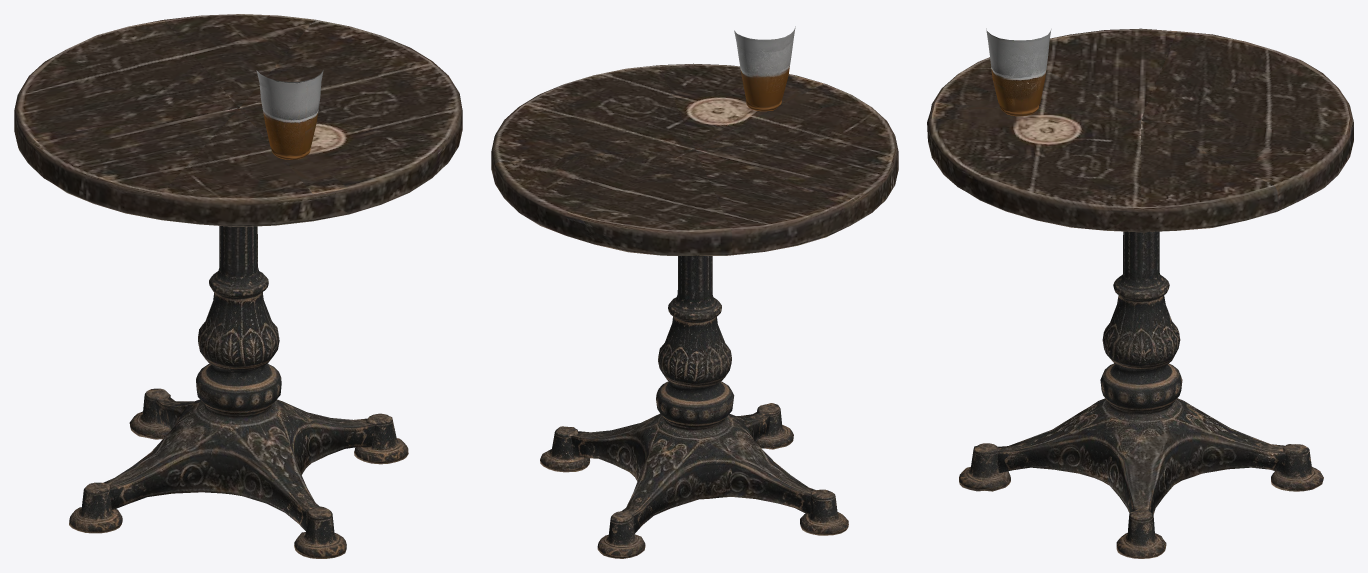
The model's file is pub_table_round.glb.
The picture shows the model from 3 angles, left to right: view 1: azimuth 30°, elevation 25°; view 2: azimuth 150°, elevation 25°; view 3: azimuth 270°, elevation 25°; orthographic projection. The views are drawn at different scales.
Bounding box in the file's own units: 0.8148 × 0.9375 × 0.8093.
Materials: 1 (1 with a texture image).
